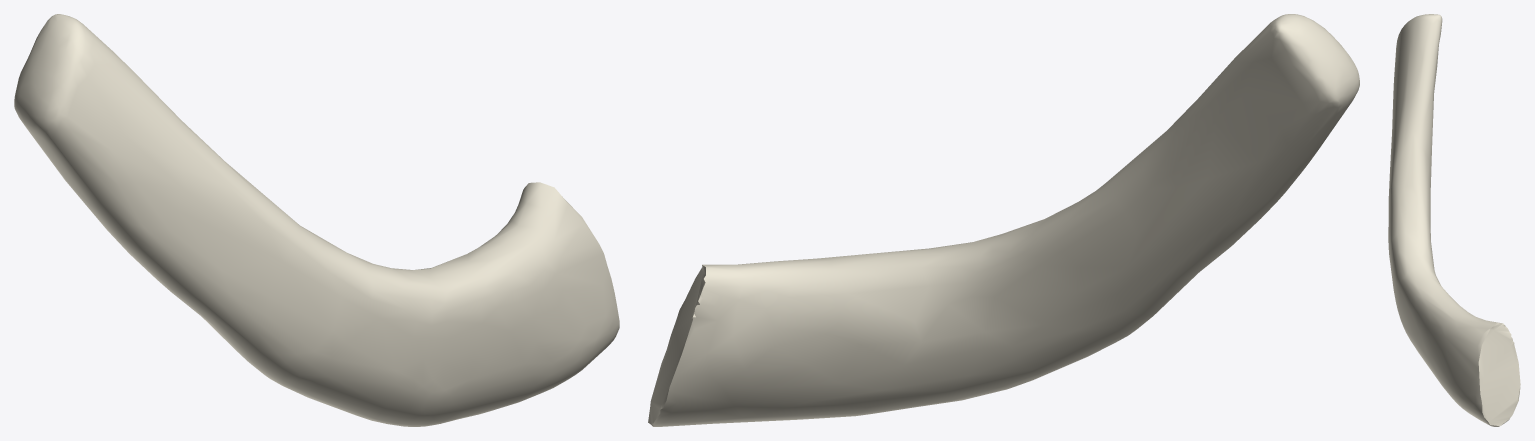
File: fma8221_fj3254.glb
3 views of the same model, side by side, from view 1: azimuth 30°, elevation 25°; view 2: azimuth 150°, elevation 25°; view 3: azimuth 270°, elevation 25° (orthographic). The views are drawn at different scales.
Visible parts, largest first — view 1: FMA8221_FJ3254; view 2: FMA8221_FJ3254; view 3: FMA8221_FJ3254.
Part boxes in pixels (x1=…): FMA8221_FJ3254: x1=14, y1=14, x2=619, y2=426; FMA8221_FJ3254: x1=648, y1=14, x2=1359, y2=426; FMA8221_FJ3254: x1=1388, y1=14, x2=1520, y2=426.
Bounding box in the file's own units: 0.0791 × 0.0597 × 0.027.
